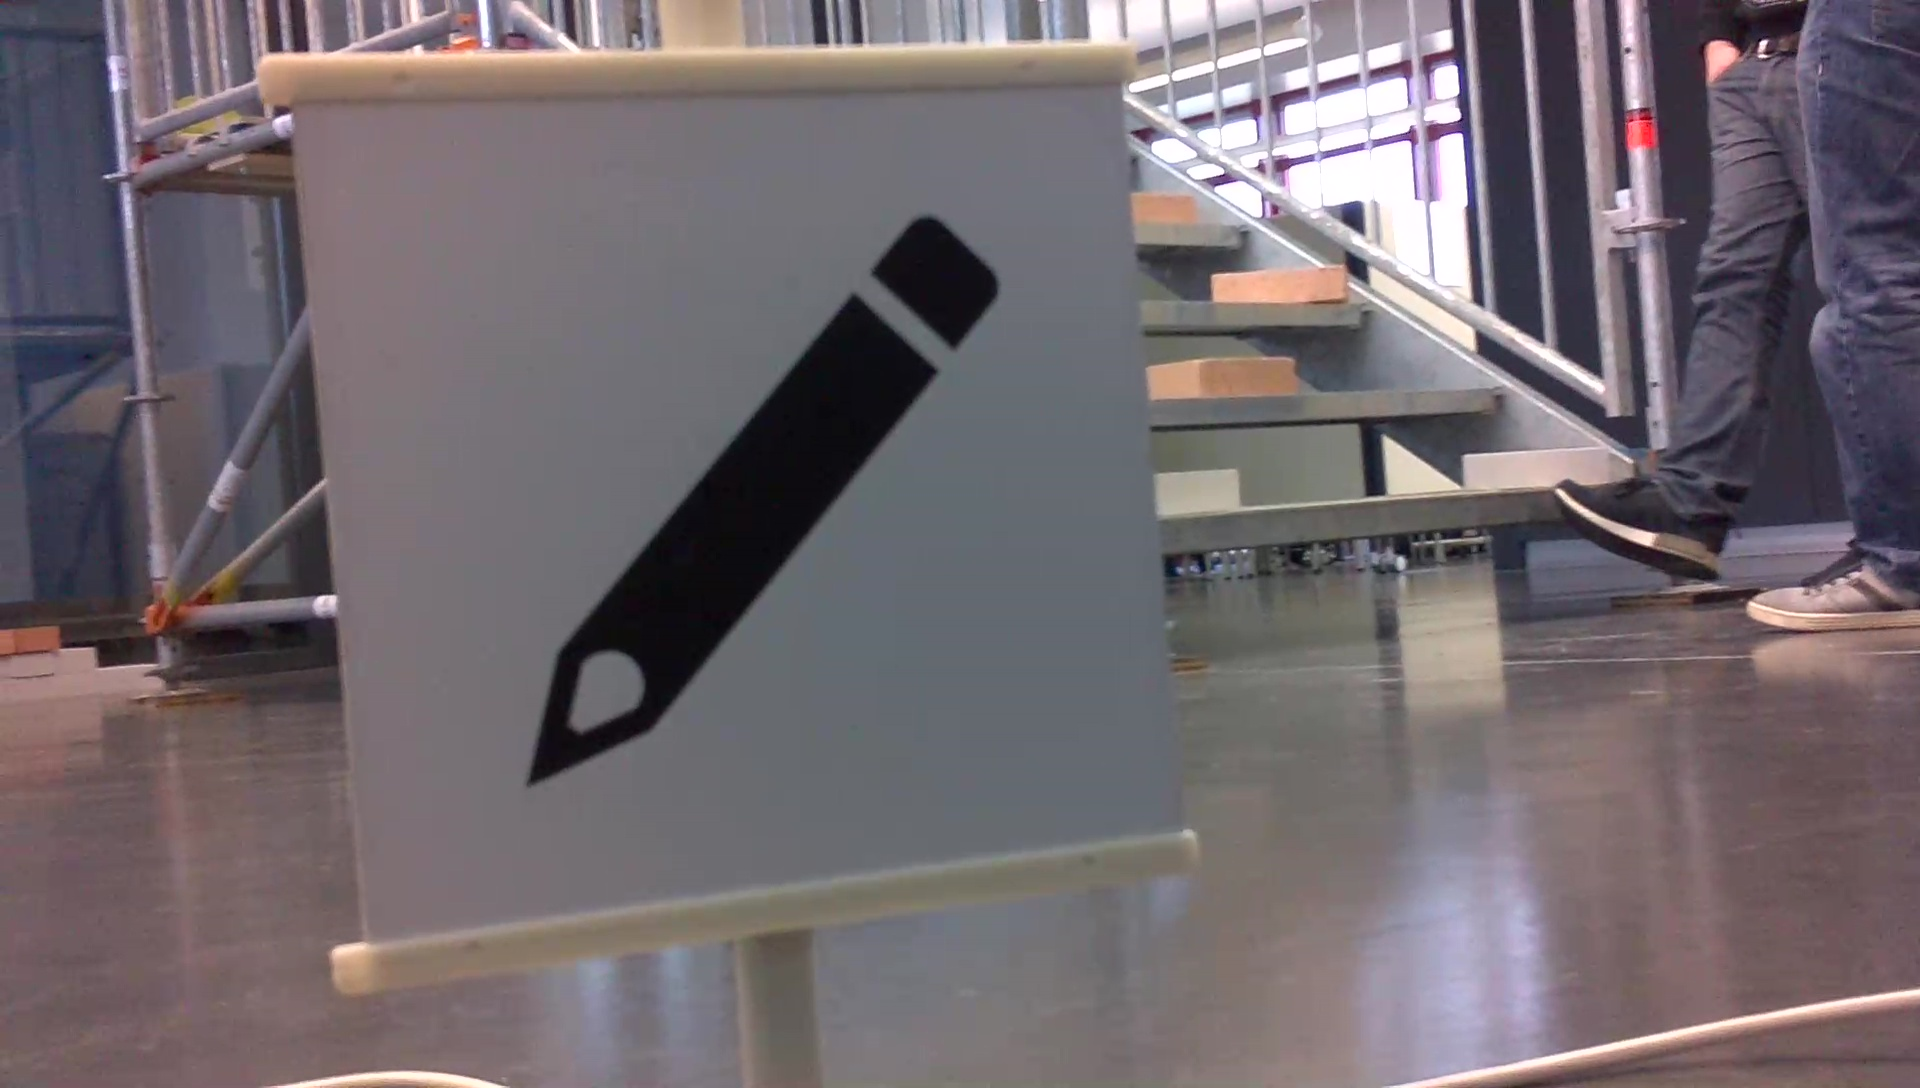brick: (1462, 448, 1607, 487), (1147, 359, 1292, 396), (1211, 265, 1345, 301), (1155, 471, 1234, 513), (1133, 193, 1189, 226)
edge: (1145, 388, 1513, 422), (1138, 295, 1375, 326), (1133, 223, 1250, 243)
pencil: (509, 196, 1018, 797)
